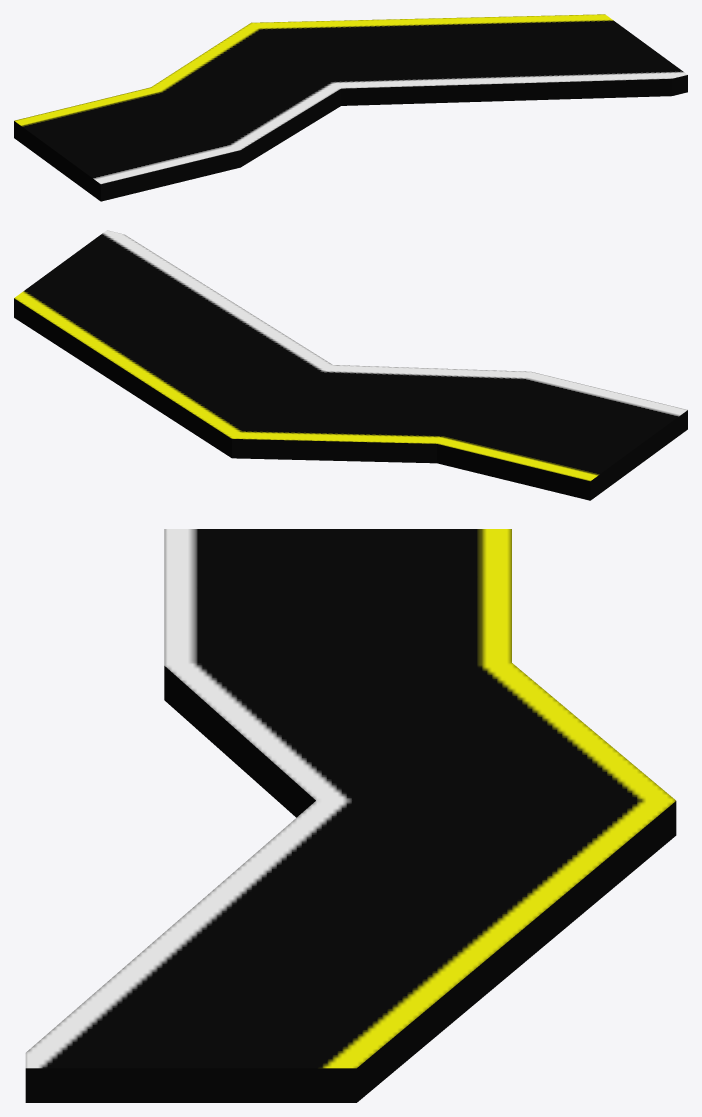
Rendered from Panel_R04_C03__Road_00.dae.
3 views of the same model, one above another, from view 1: azimuth 30°, elevation 25°; view 2: azimuth 150°, elevation 25°; view 3: azimuth 270°, elevation 25° (orthographic). The views are drawn at different scales.
Visible parts, largest first — view 1: Object; view 2: Object; view 3: Object.
Part boxes in pixels (left/top/right/bottom): Object: left=14, top=14, right=687, bottom=201; Object: left=14, top=230, right=687, bottom=500; Object: left=25, top=529, right=676, bottom=1102.
Size of the model in its own units: 0.999 by 0.5097 by 0.03.
Materials: 2 (1 with a texture image).
